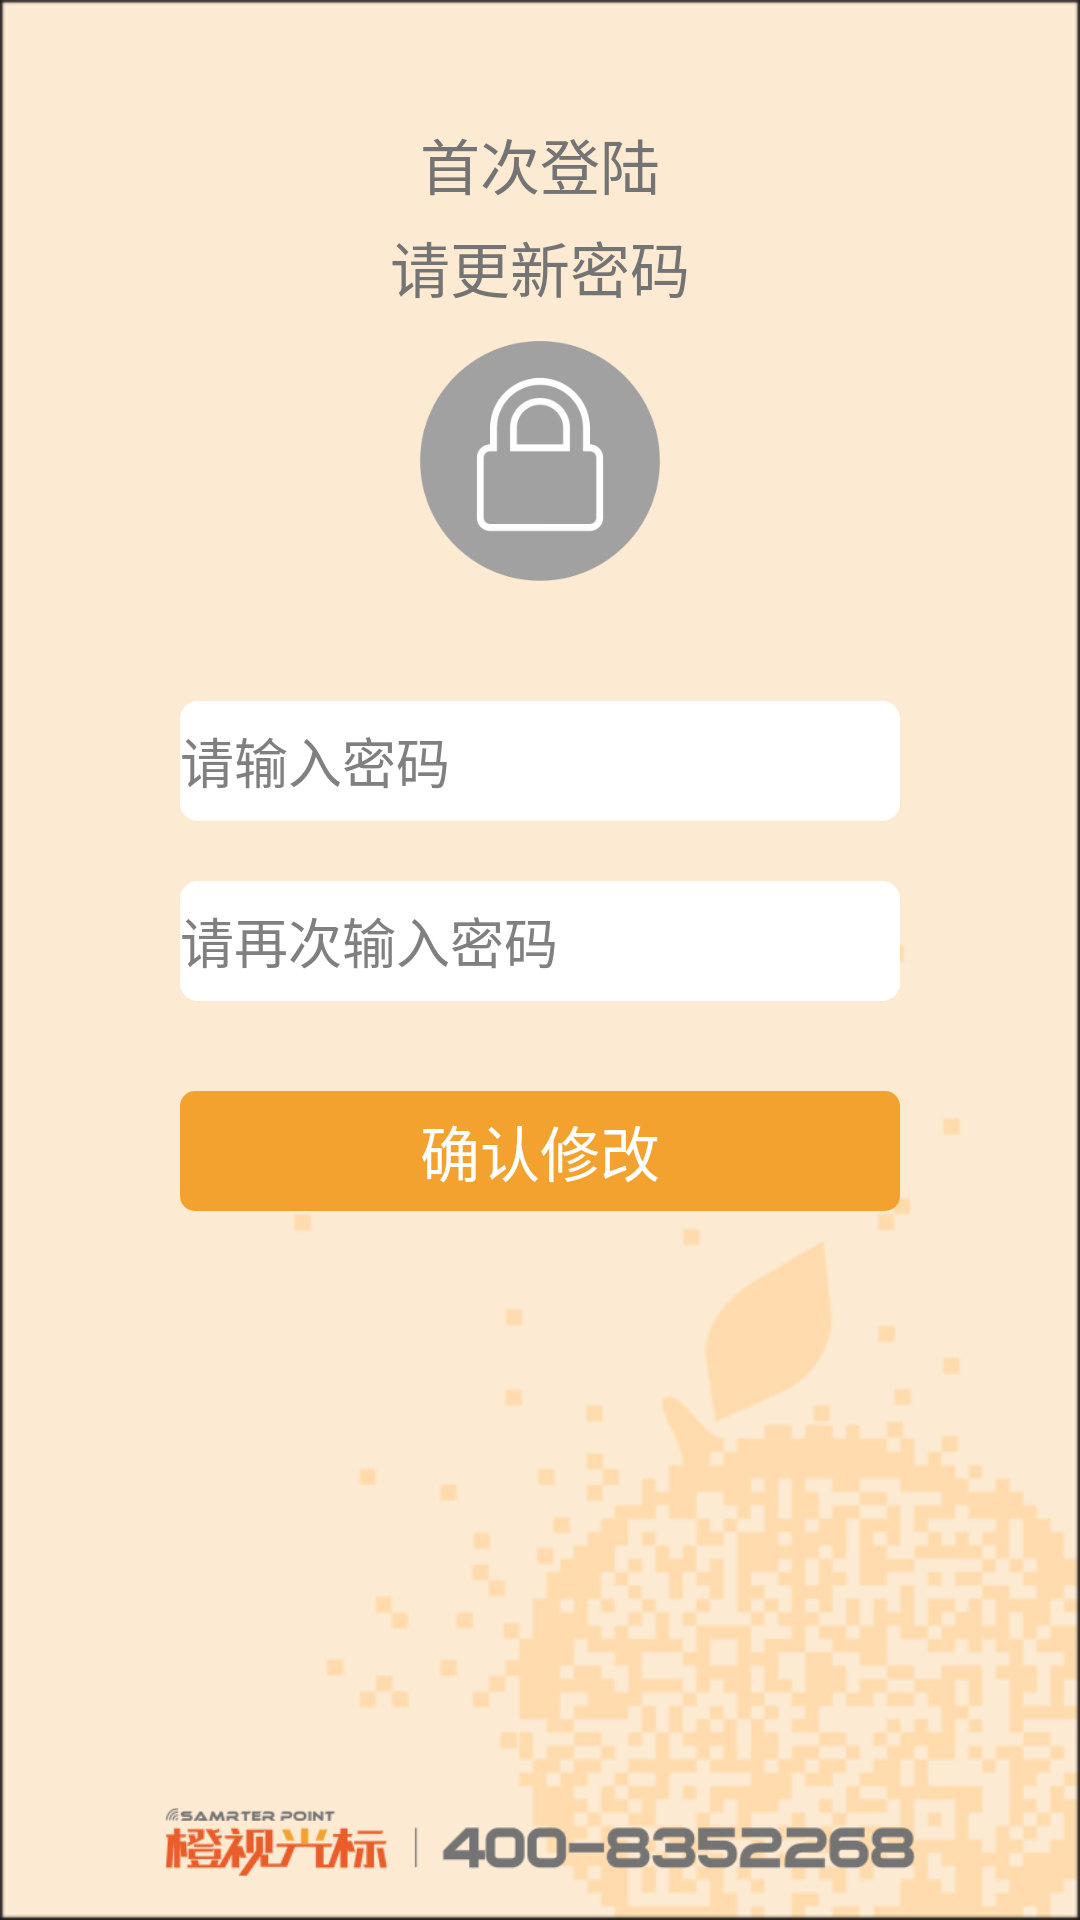

Icon bounding boxes for this 1080×1920 phone screenshot, format [left=x1, top=y1, right=x2, bottom=y2]:
suo: [left=420, top=341, right=660, bottom=581]
